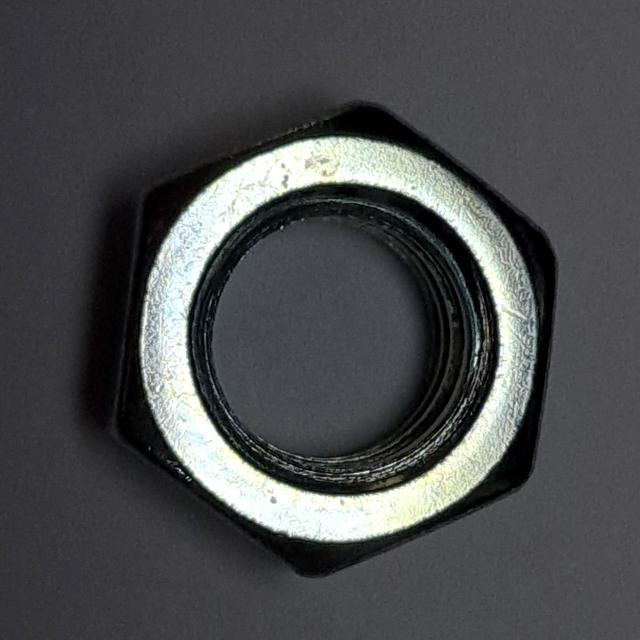Excellent: (93, 83, 572, 593)
